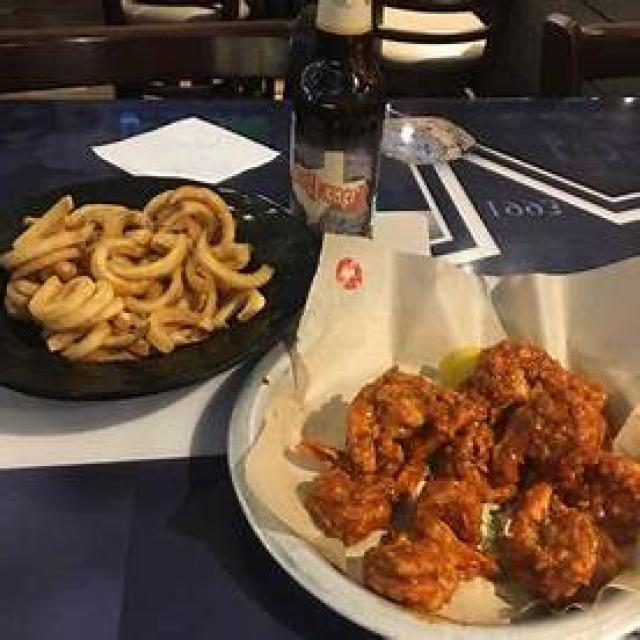Chicken Wings: (304, 311, 638, 610)
Onion Rings: (2, 174, 260, 366)
